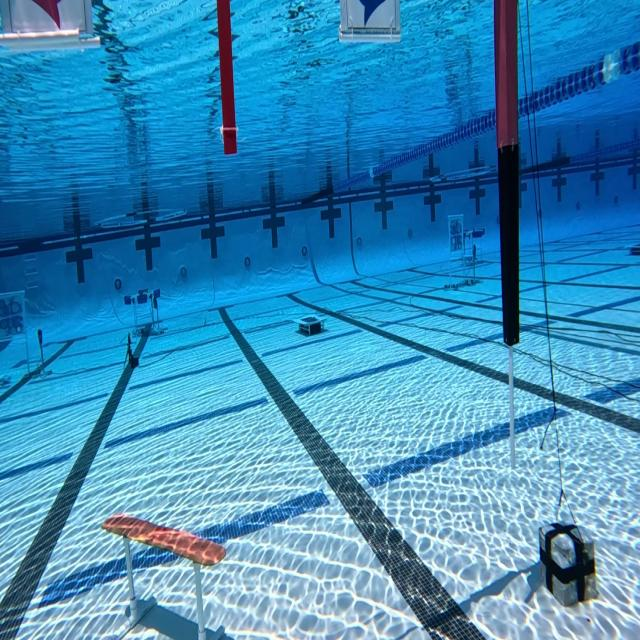blue_side: (344, 0, 397, 38)
red_side: (2, 0, 90, 44)
